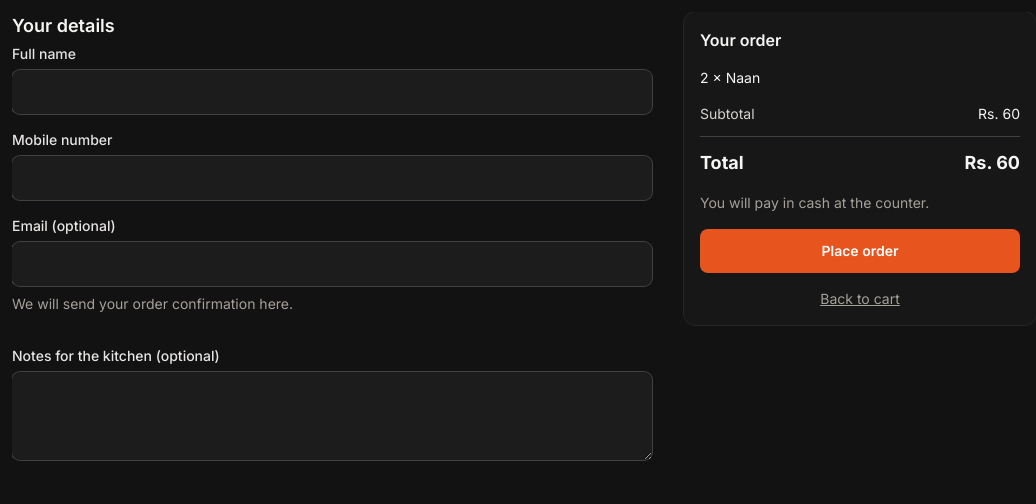
Test: checking the form › rejects a bad email
Expected: the button "Place order" is enabled, 700,229 -> 1020,273
Type "Ali Khan" into the field labelled "Full name" at point(332, 92), box 12,70 -> 652,114
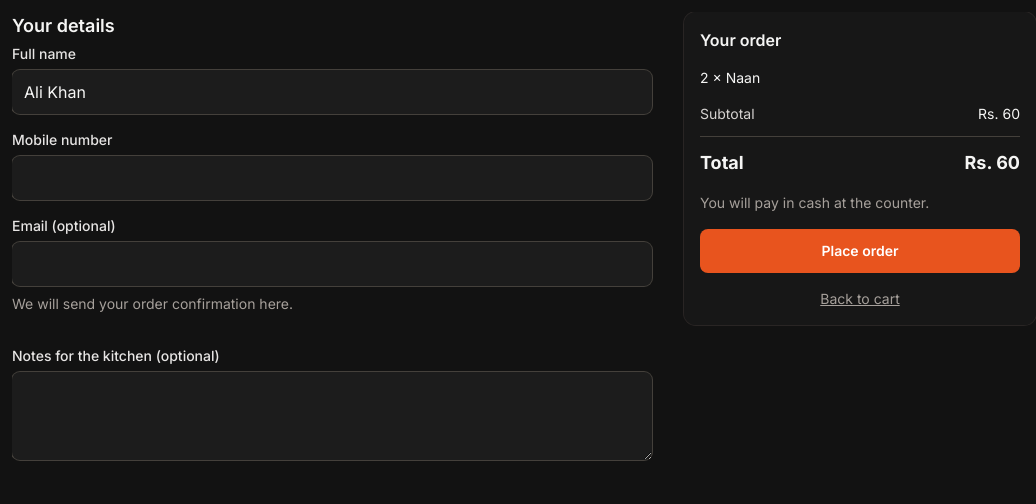
Type "0300-123 4567" into the field labelled "Mobile number" at point(332, 178), box 12,156 -> 652,200
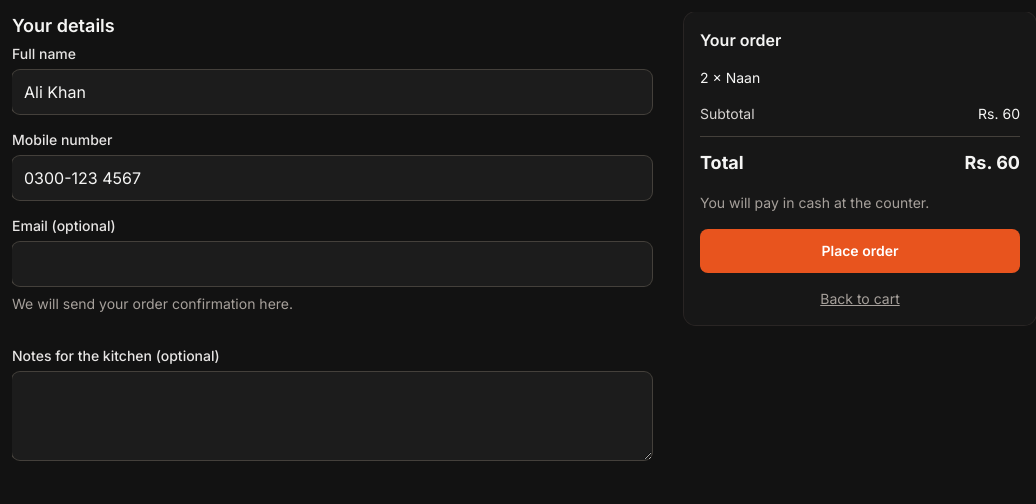
Type "not-an-email" into the field labelled "Email (optional)" at point(332, 264), box 12,242 -> 652,286
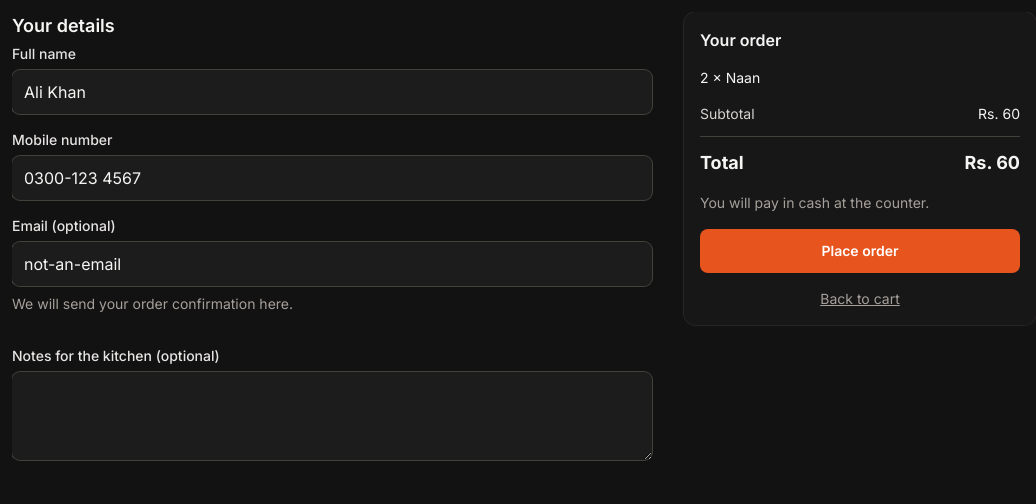
Click the button "Place order" at point(860, 251), box 700,229 -> 1020,273
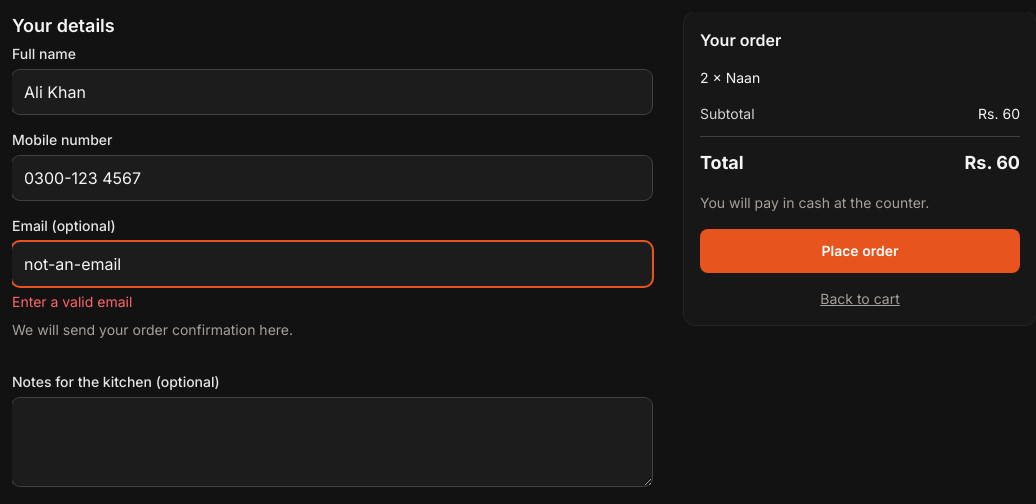
Expected: the text "Enter a valid email" is shown, 12,293 -> 132,310
